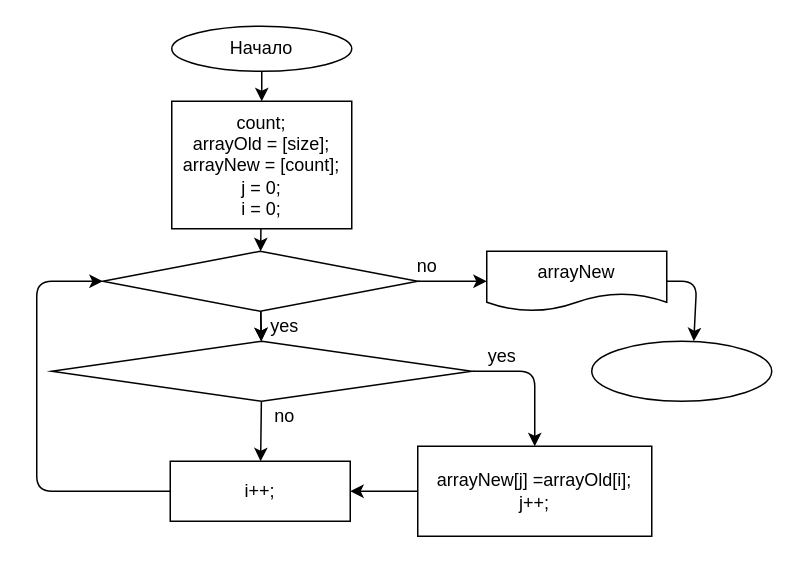
Some shapes in this 798 by 563 pixel diagram are drawn without their labels. The centre of each missing label's shape, as x and y in pixels:
"arrayOld[i].Length <= 3" belongs at (261,370).
"i < arrayOld.Length" belongs at (259,280).
"Конец" belongs at (681,370).
